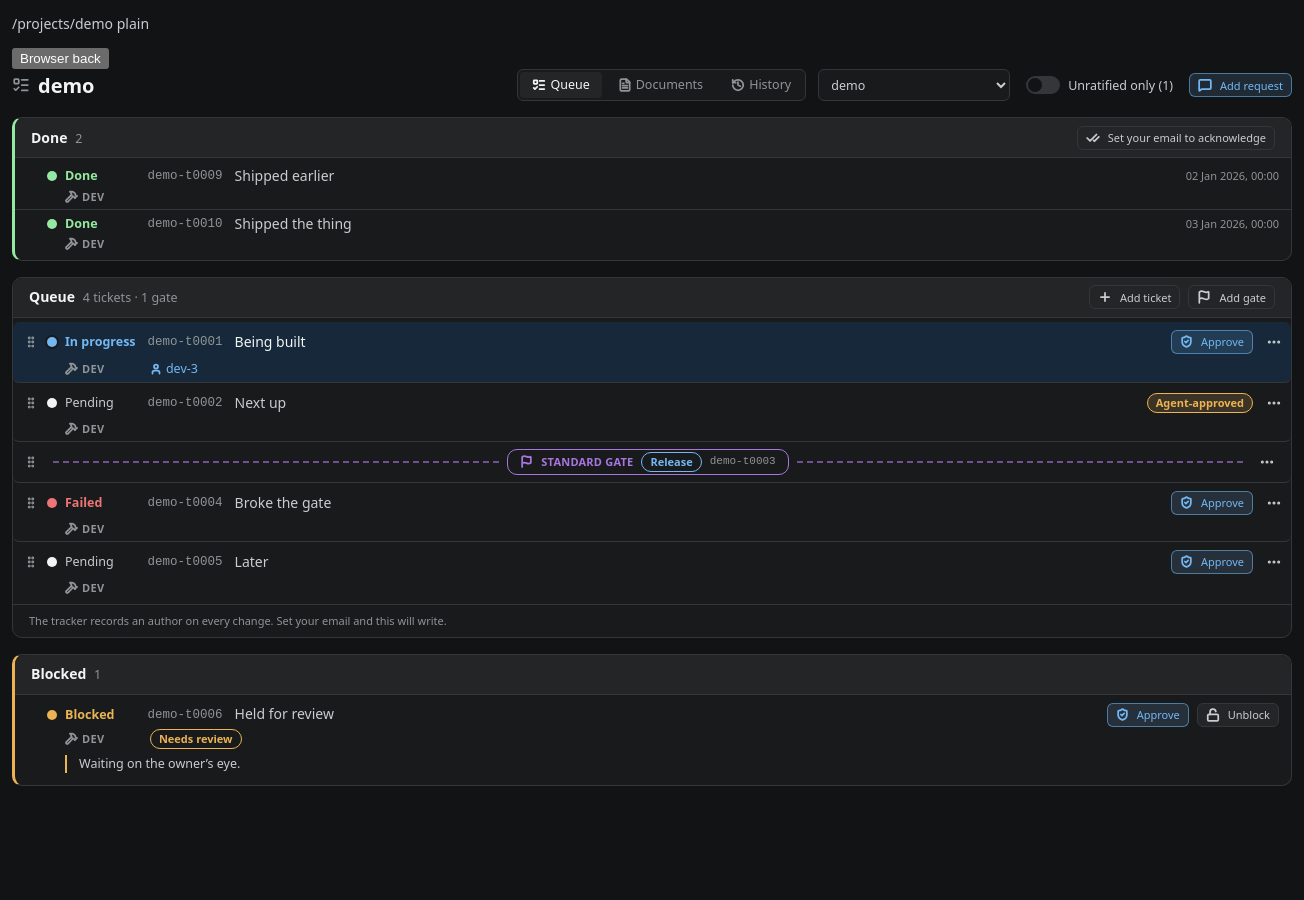
Test case: the dashboard and the item page › queue → item → the item’s link back restores the queue once its rows are drawn
(page scrolled)
Click the link "Next up".
click(260, 402)  # box [235,393,286,412]
(page scrolled)
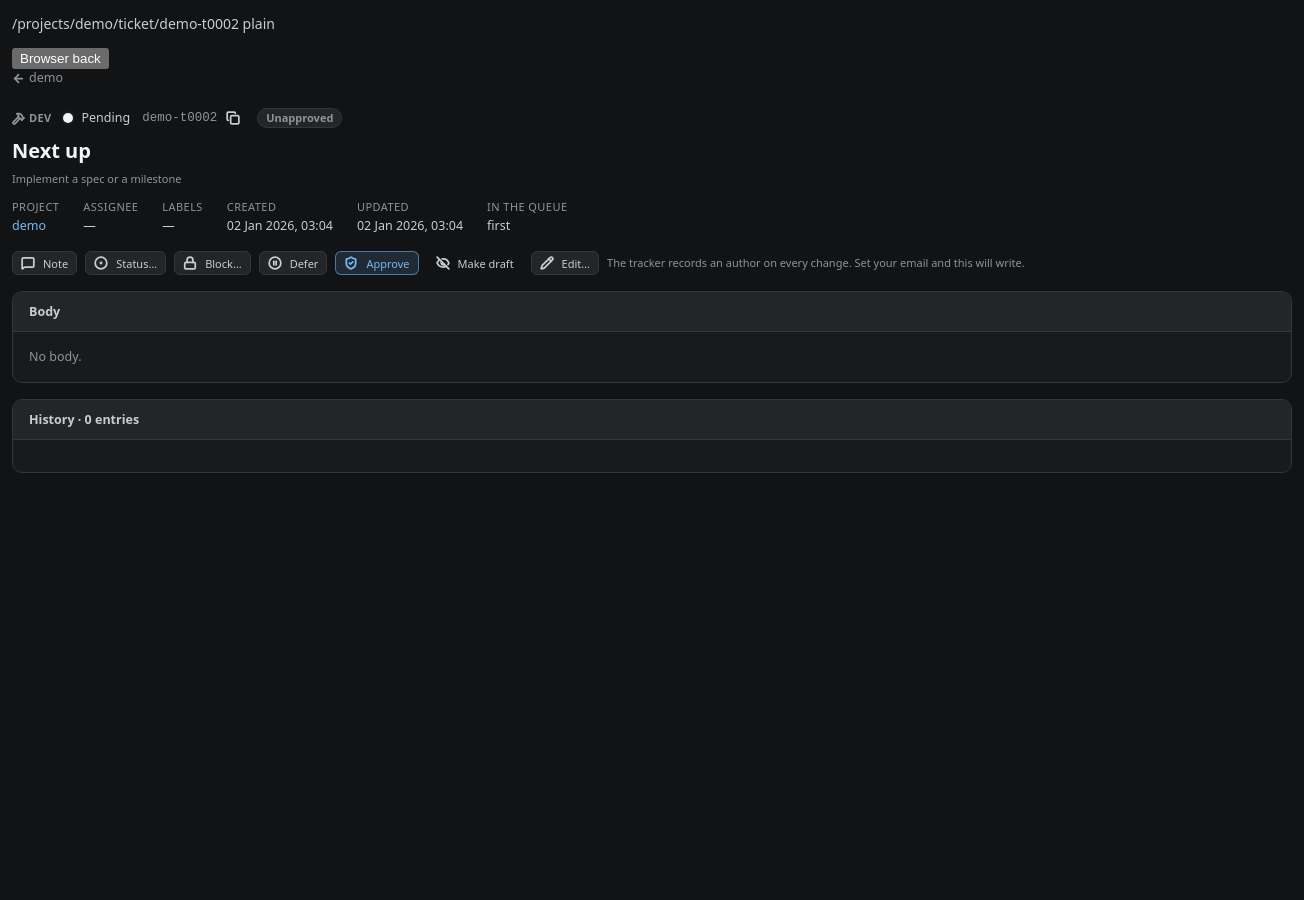
Expected: the heading "Next up" is shown, [12,137,91,164]
// The crumb at the head of the item page.
Click the 1st link "demo".
click(38, 78)  # box [12,69,63,87]
Wait 10500 ms
(page scrolled)
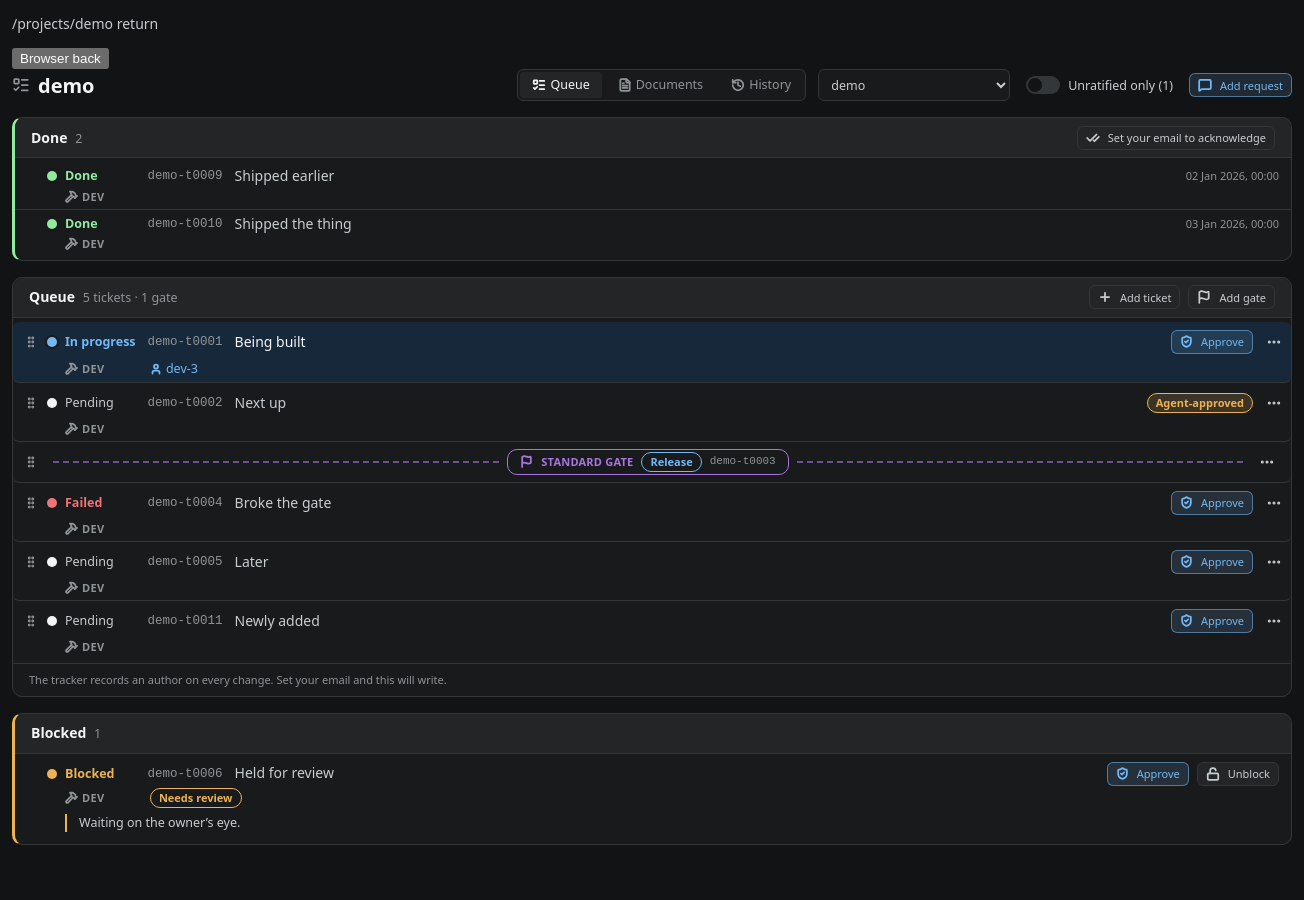
Expected: the text with test id "address" reads "/projects/demo return", [12,14,158,33]
Expected: the link "Newly added" is shown, [235,610,320,630]
